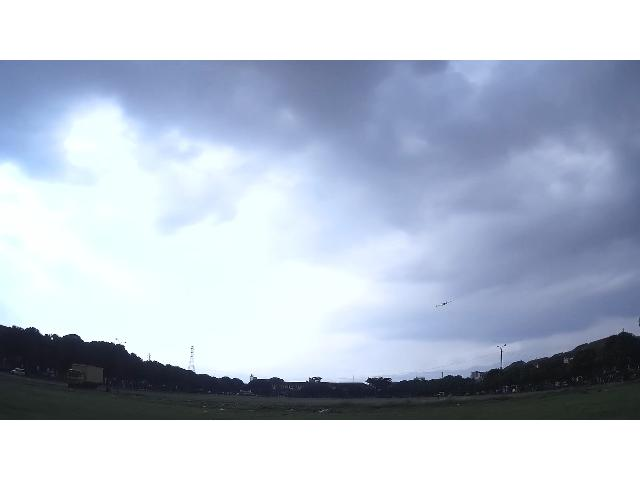Anti-Drone: (436, 301, 452, 307)
